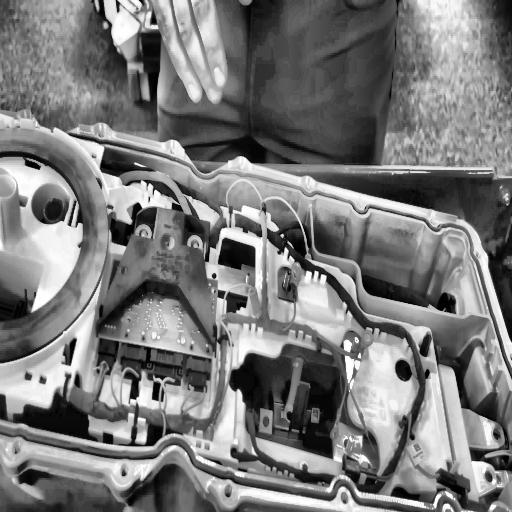bms_unit: (2, 108, 512, 512)
